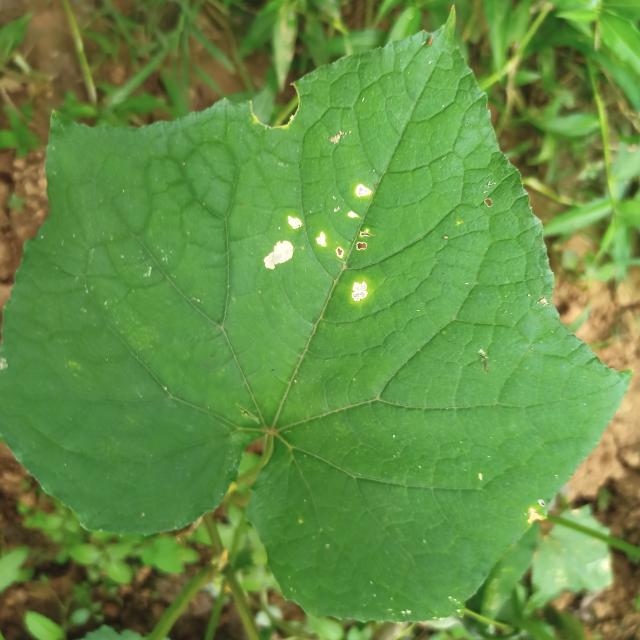disease_cucumber: (263, 183, 372, 302)
